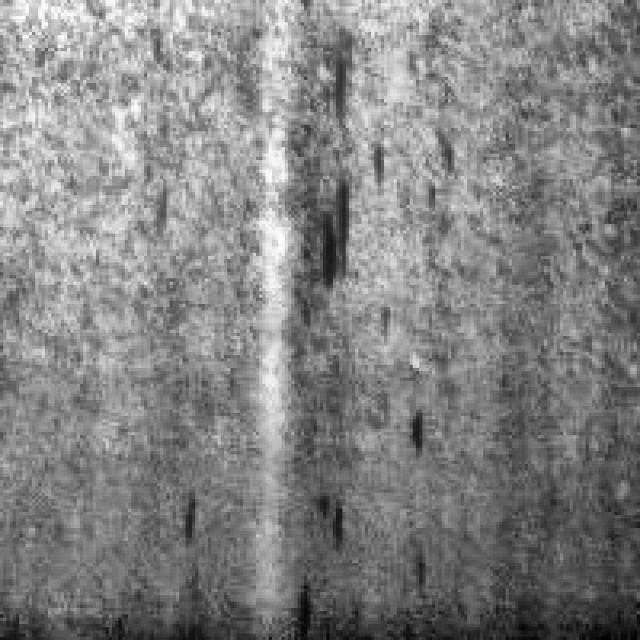Patches: (307, 170, 362, 284)
